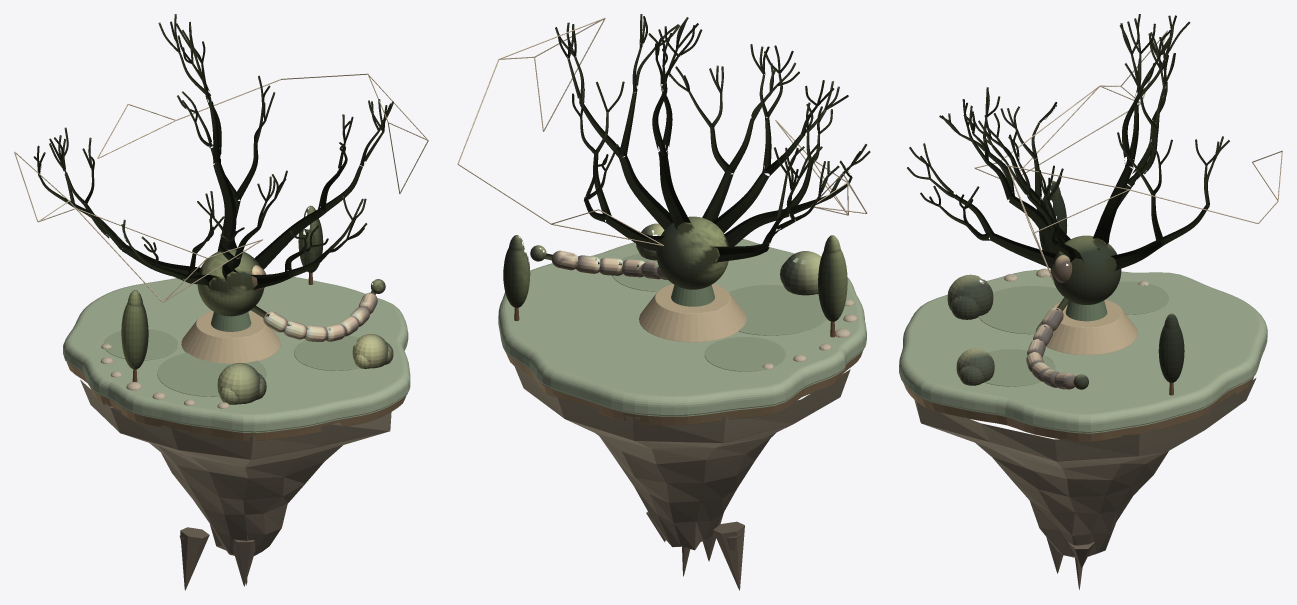
Rendered from baked-1.glb.
3 views of the same model, side by side, from view 1: azimuth 30°, elevation 25°; view 2: azimuth 150°, elevation 25°; view 3: azimuth 270°, elevation 25° (orthographic). The views are drawn at different scales.
Visible parts, largest first — view 1: lm.001, vl.001; view 2: lm.001, vl.001; view 3: lm.001, vl.001.
Part boxes in pixels (x1=…): lm.001: x1=14, y1=73, x2=428, y2=590; vl.001: x1=33, y1=14, x2=393, y2=404; lm.001: x1=457, y1=17, x2=867, y2=590; vl.001: x1=503, y1=14, x2=870, y2=321; lm.001: x1=899, y1=30, x2=1282, y2=589; vl.001: x1=907, y1=14, x2=1229, y2=389.
Size of the model in its own units: 16.18 by 24.08 by 14.88.
